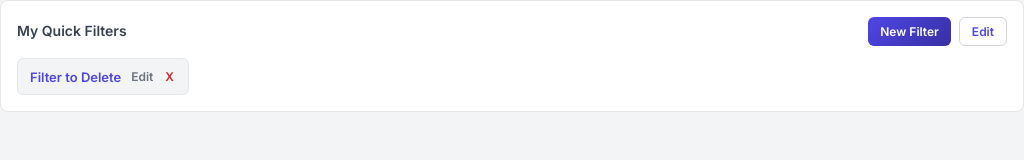
QuickFilters › deletes a saved filter with confirmation
# Click delete button
Step 1. Click the button "X" → (170, 76), box [163,67,176,86]
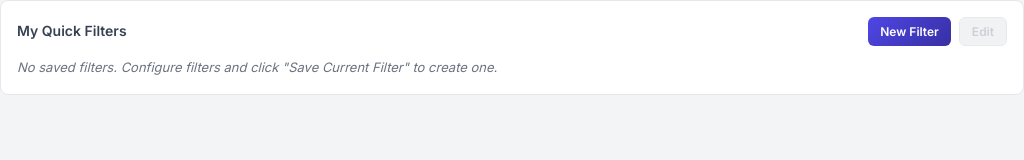
Now the button "Filter to Delete" is gone
